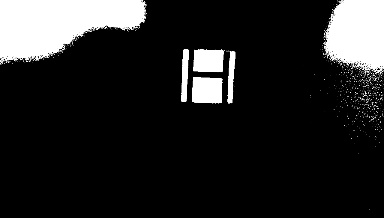H: (183, 47, 235, 102)
